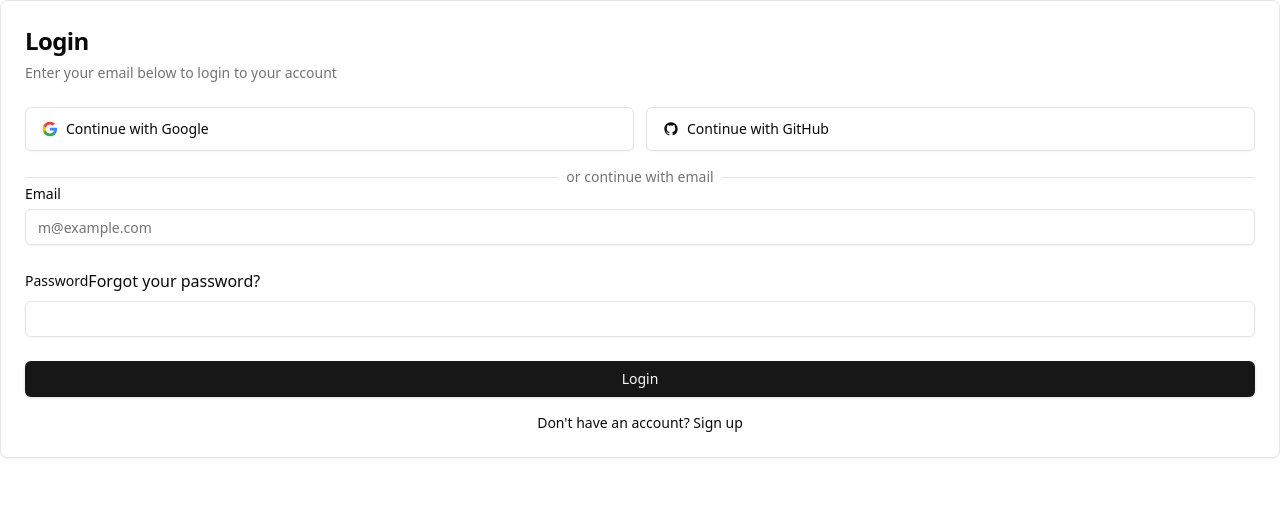
Test case: LoginForm › clears error when resubmitting
Type "user@example.com" into the field labelled "Email" at (640, 227), box [25, 209, 1255, 245]
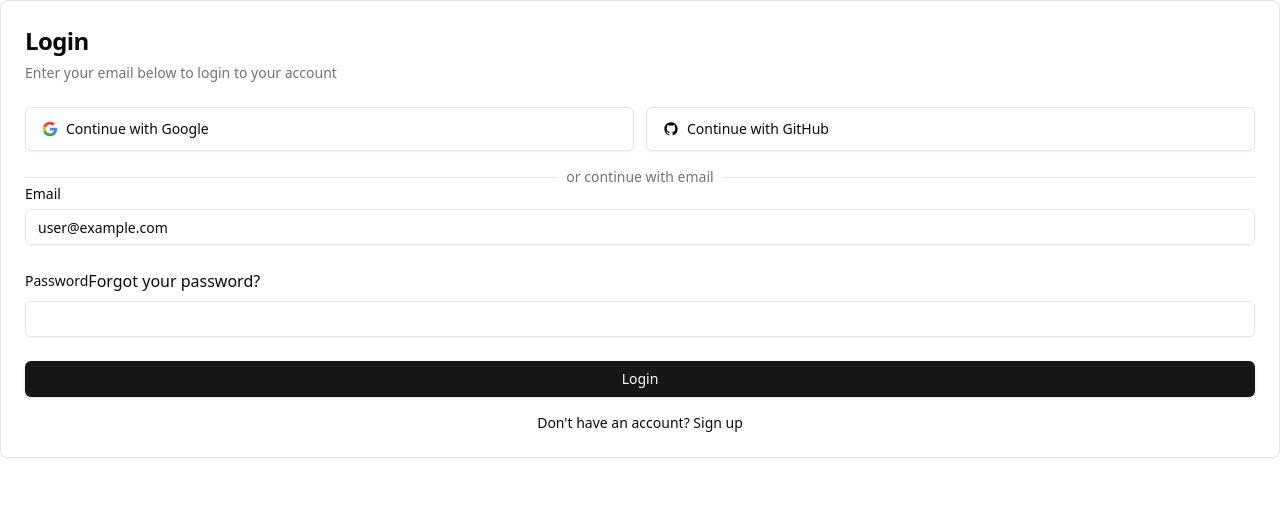
Type "password123" into the password field labelled "Password" at (640, 319), box [25, 301, 1255, 337]
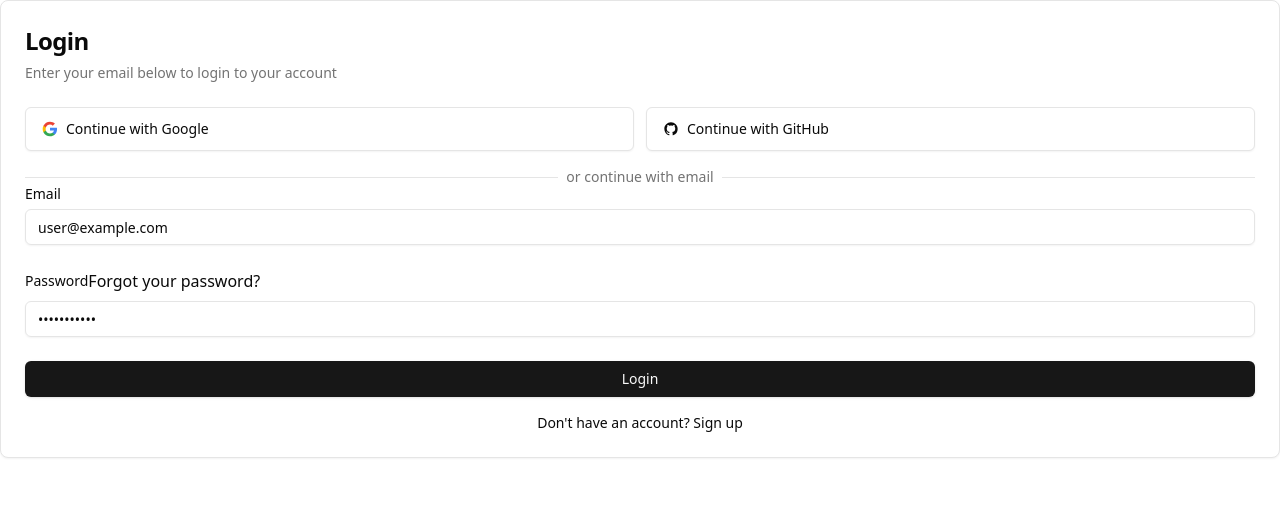
Click the button "Login" at (640, 379), box [25, 361, 1255, 397]
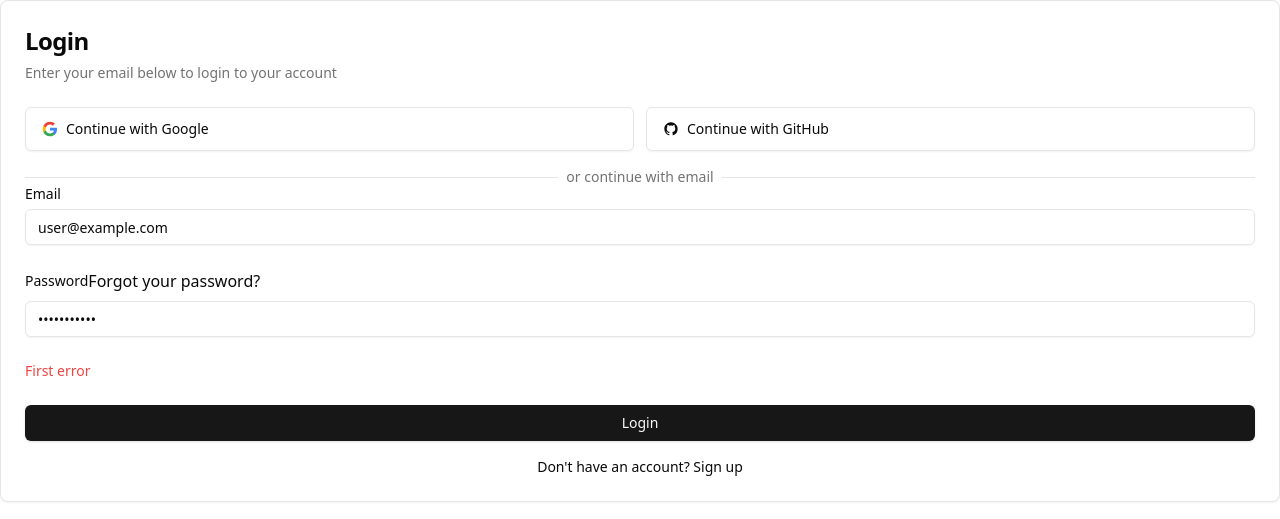
Result: the text "First error" is shown at [25, 361, 90, 380]
Click the button "Login" at (640, 423), box [25, 405, 1255, 441]
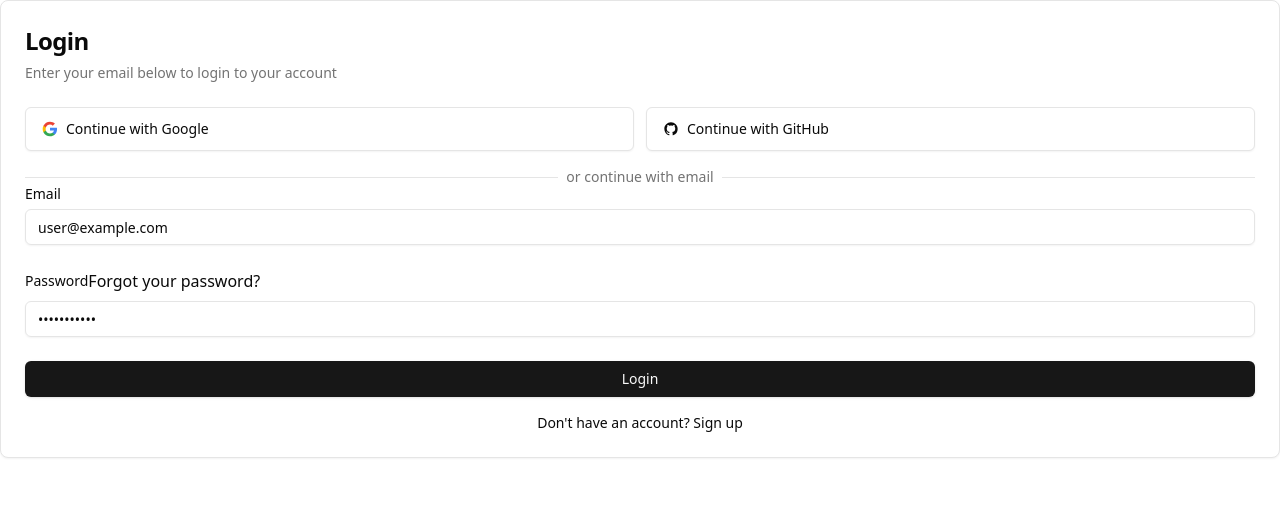
Result: the text "First error" is gone
